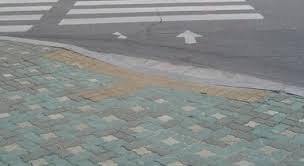guide_blocks: (170, 80, 265, 106), (83, 74, 161, 100), (54, 52, 123, 75)
